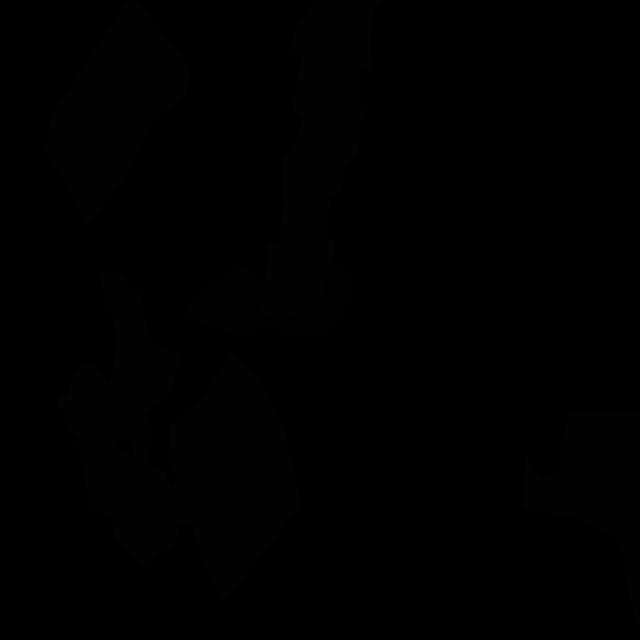cardboard: (261, 0, 384, 321), (164, 349, 302, 604), (44, 0, 192, 226), (522, 410, 640, 636), (56, 268, 180, 453), (75, 442, 196, 569)
rigid_plastic: (184, 257, 355, 339)
